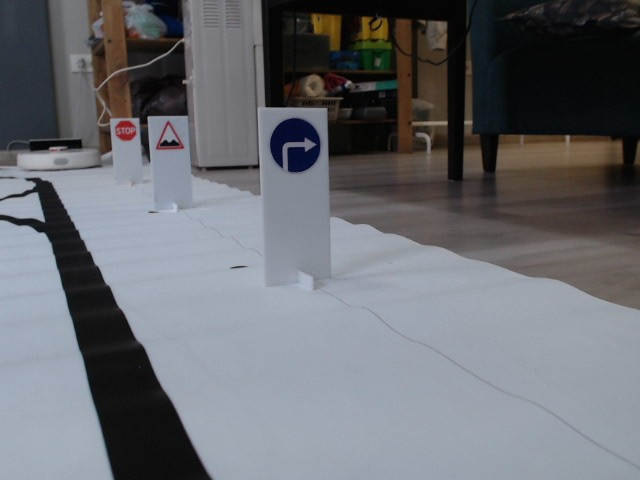Nerov: (156, 120, 184, 151)
Right: (268, 117, 321, 173)
Stop: (115, 120, 137, 142)
